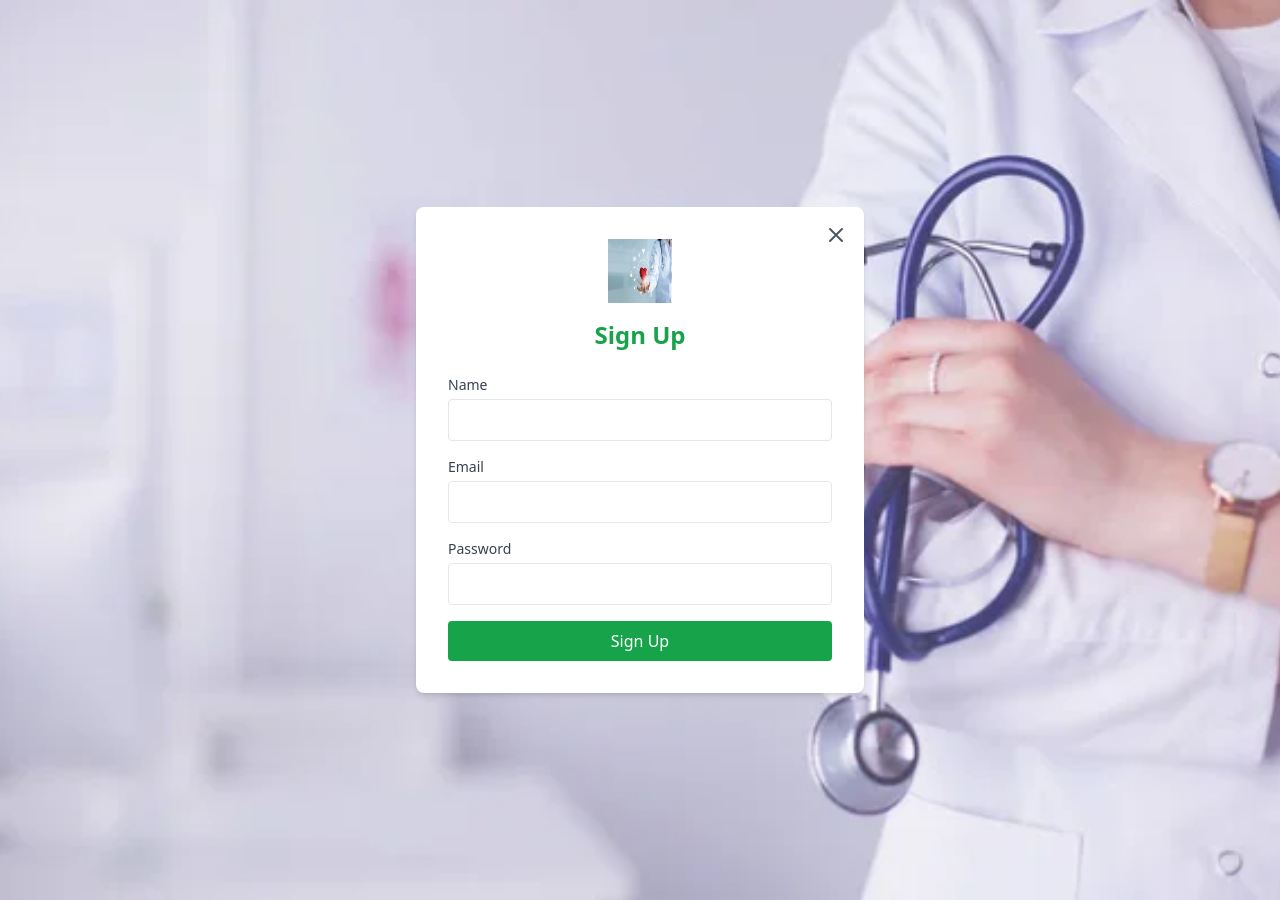
Signup Component › shows network error on fetch failure
The image size is (1280, 900).
// Fill in form inputs
Type "Jane" into the field labelled "Name" at (640, 420), box [448,399,832,441]
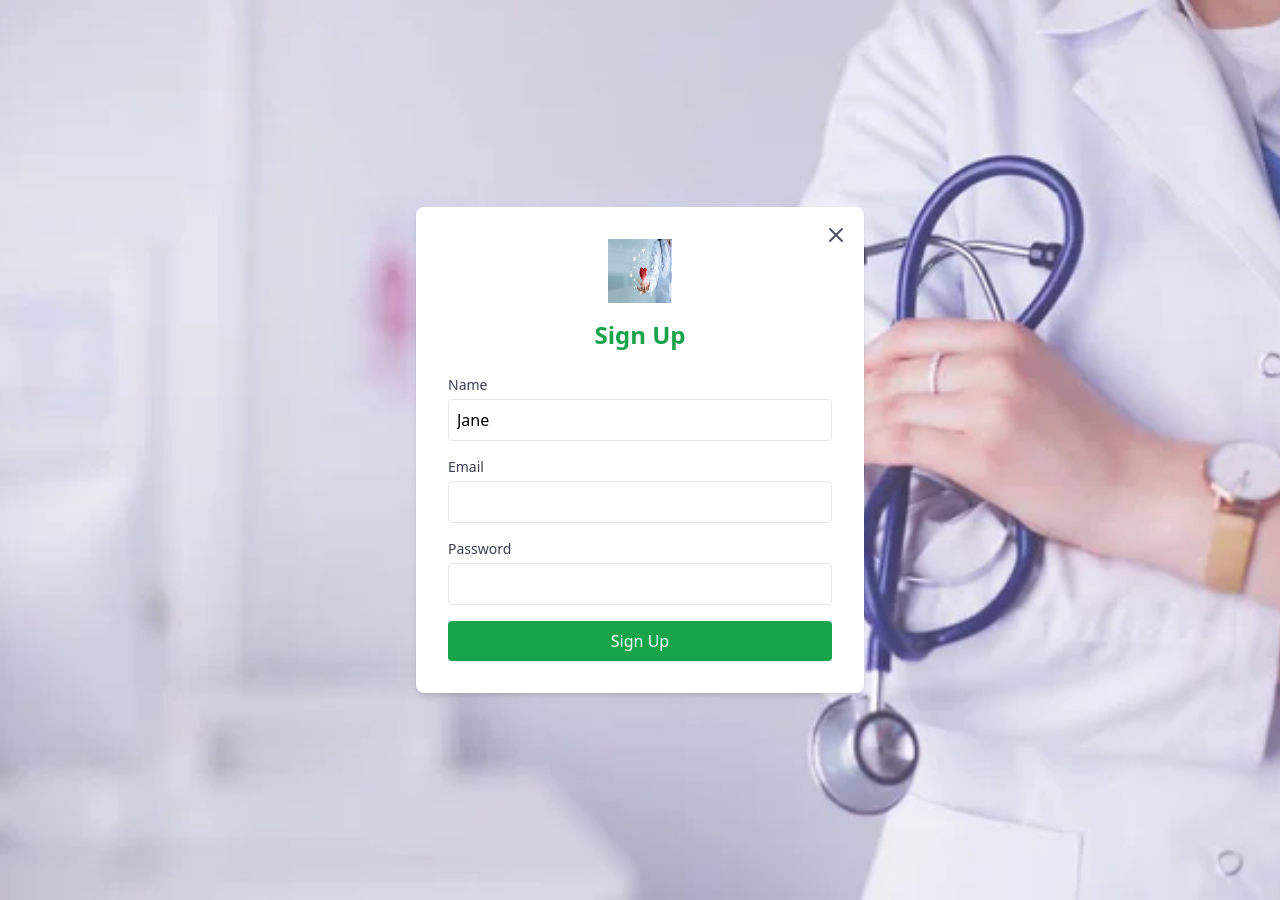
Type "jane@example.com" into the field labelled "Email" at (640, 502), box [448,481,832,523]
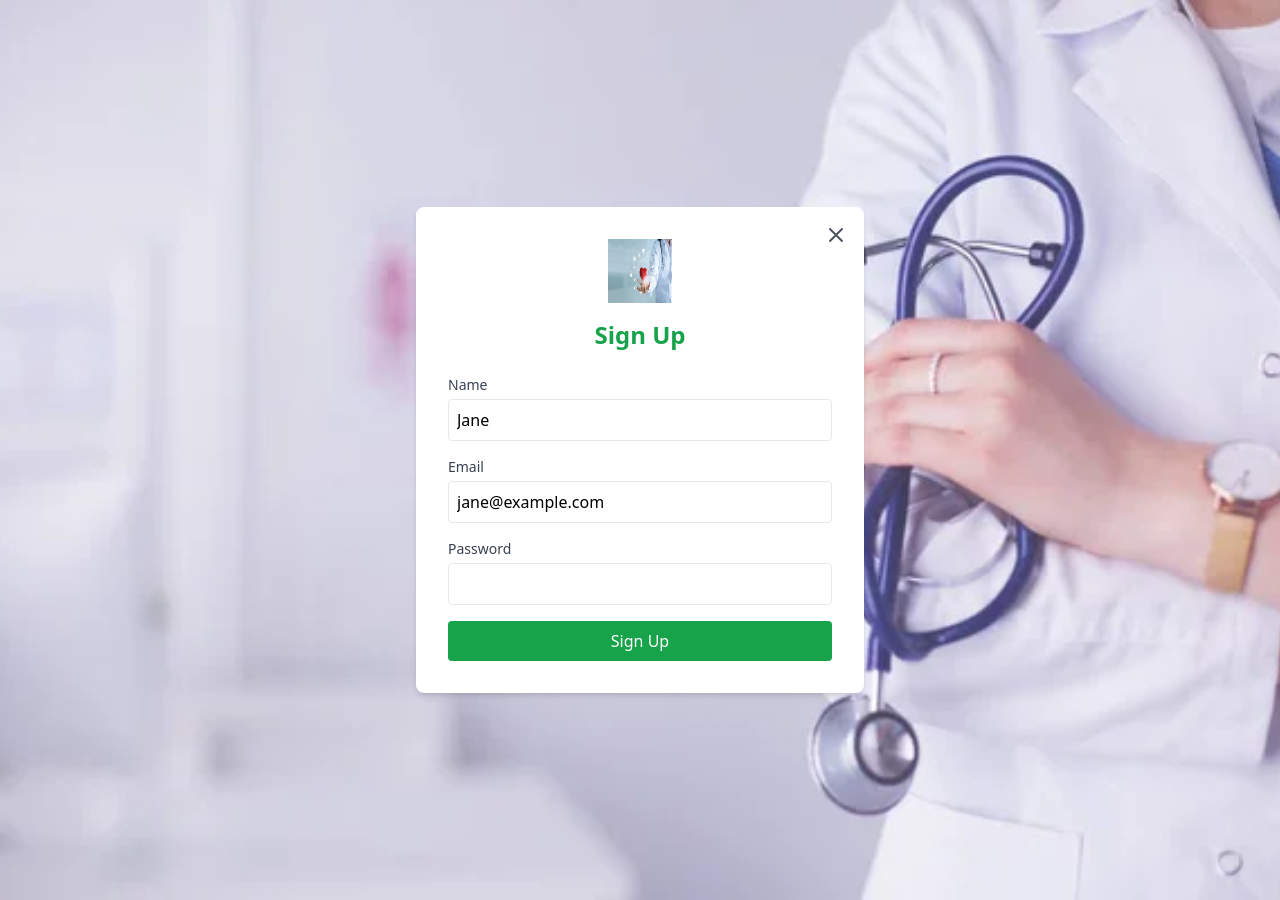
Type "password123" into the password field labelled "Password" at (640, 584), box [448,563,832,605]
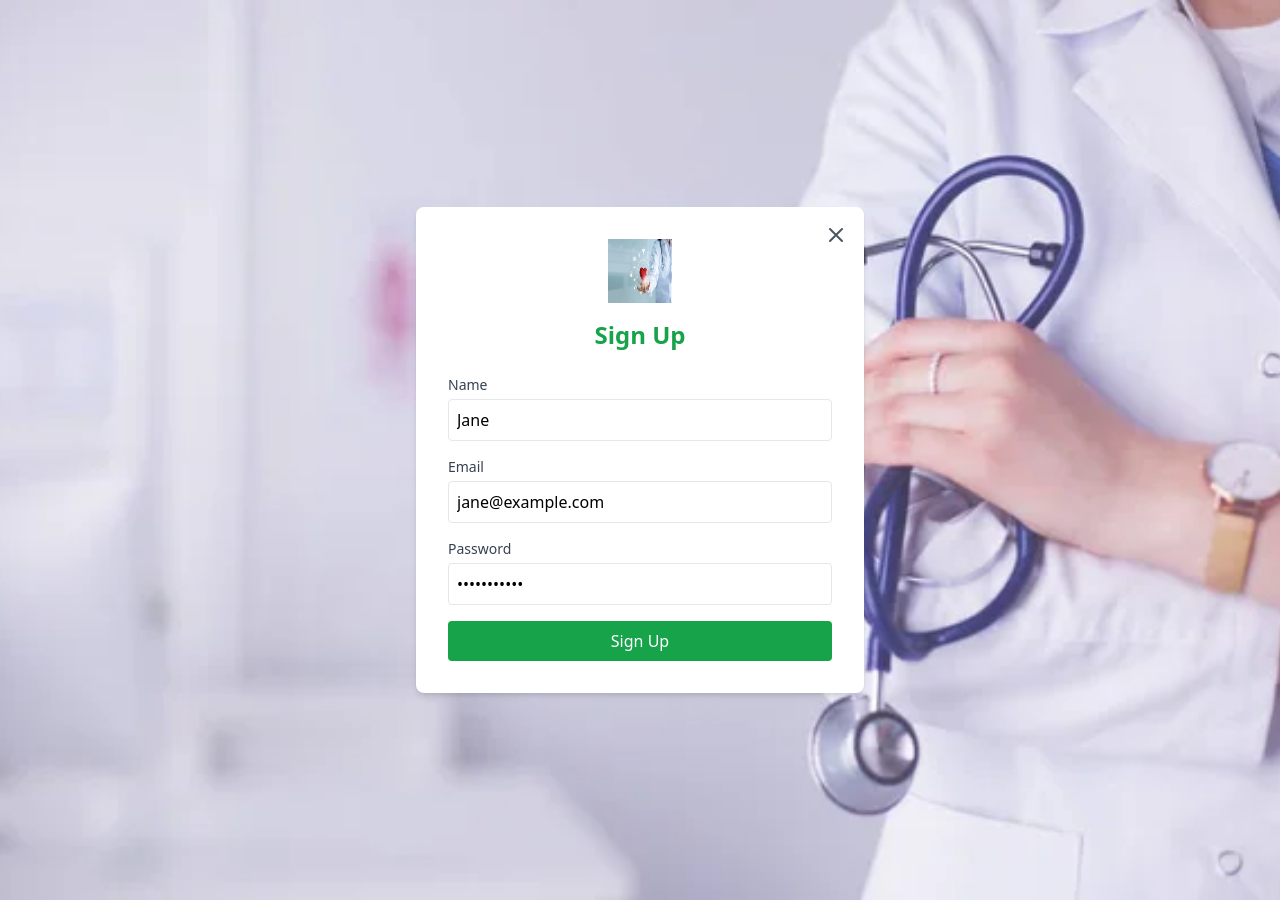
// Submit the form
Click the button "Sign Up" at (640, 641), box [448,621,832,661]
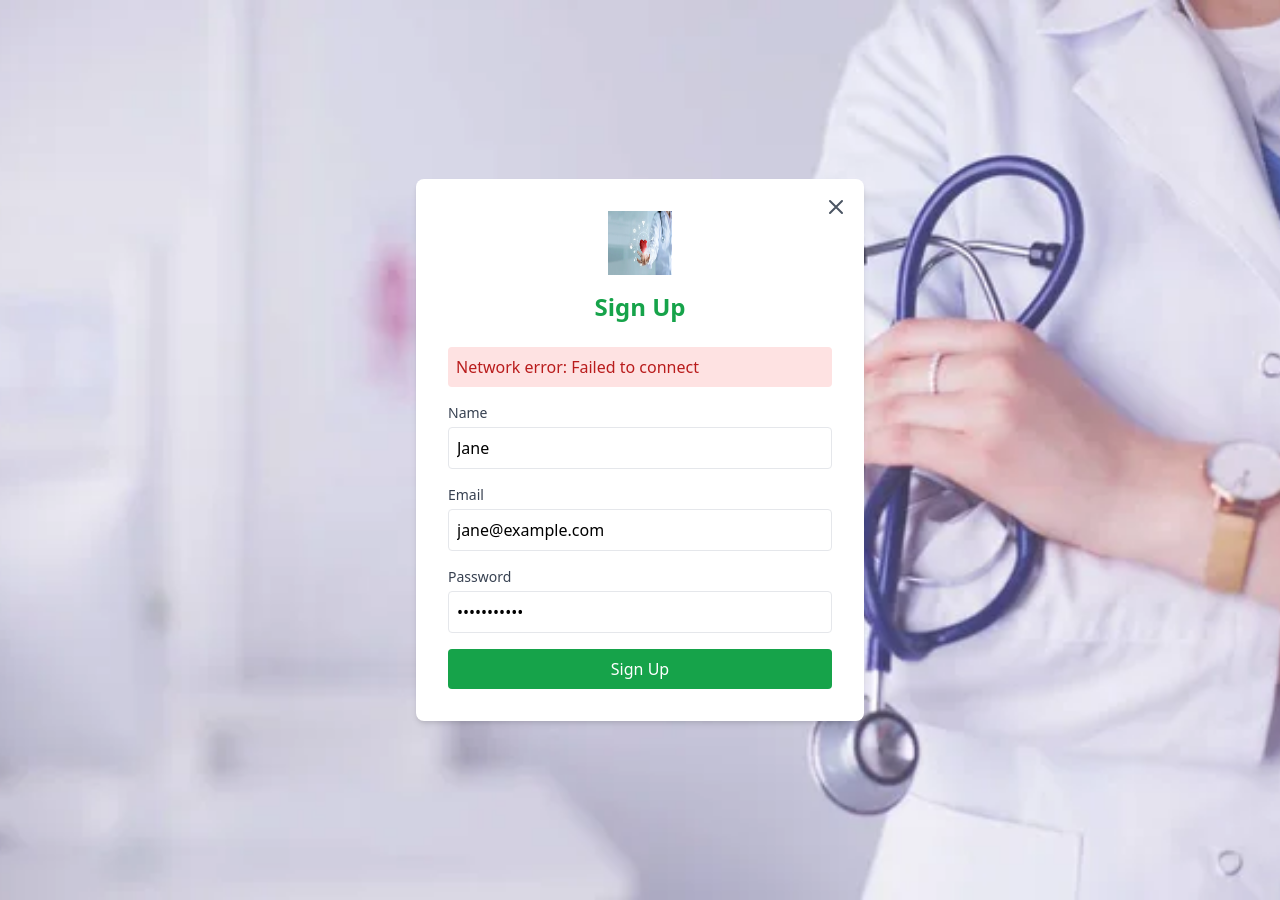
Check: the text "Network error: Failed to connect" is shown, box [448,347,832,387]
